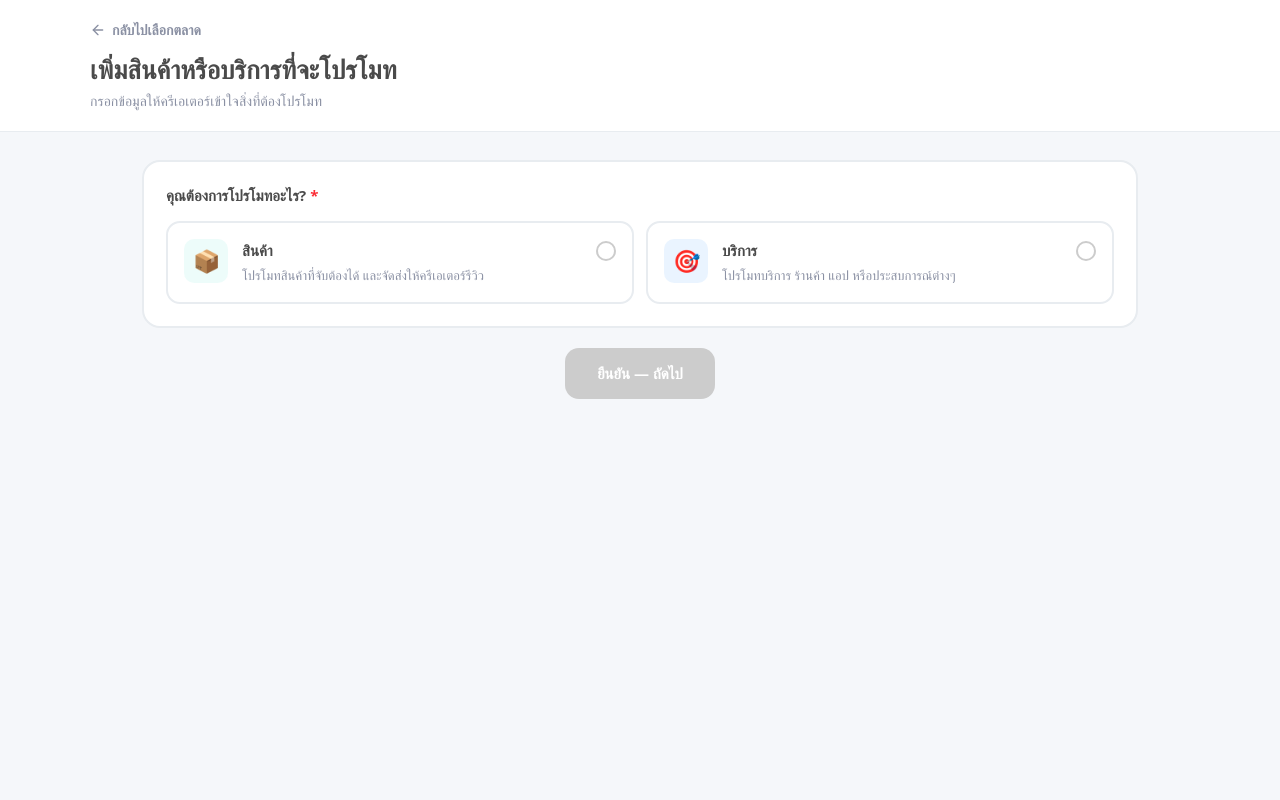
Scenario: AddProductPage › shows service categories and no-shipping banner after clicking บริการ
Click the button "บริการ".
click(686, 260)  # box [646,220,1114,304]
(page scrolled)
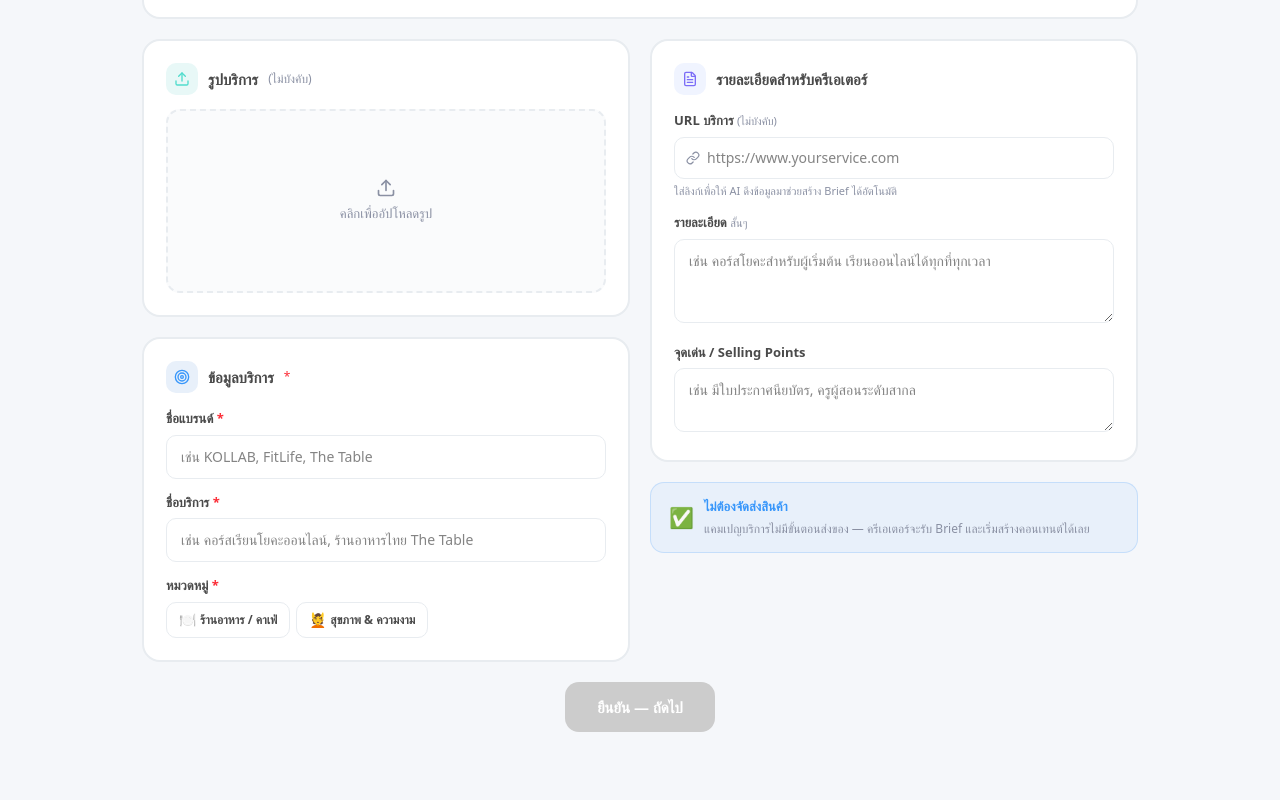
Now the button "🍽️ ร้านอาหาร / คาเฟ่" is shown, box [166,602,290,638]
Now the text "ไม่ต้องจัดส่งสินค้า" is shown, box [704,497,788,515]
